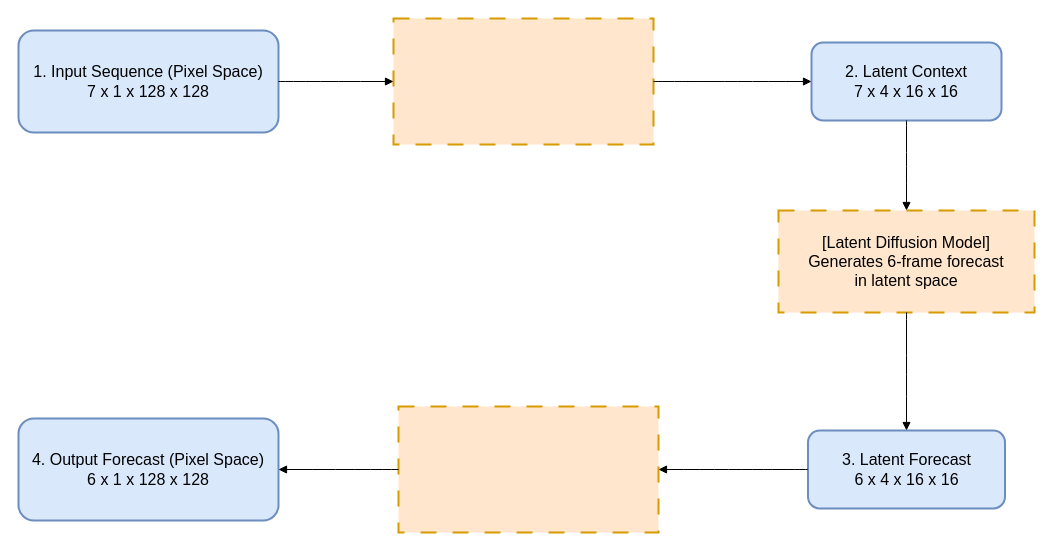
The diagram is 1052 pixels wide and 550 high, and some of its shapes have lost their labels. The shapes that lost their labels are listed below. From the top down, each one's box as (x1, y1, x2, y2) in pixels, then its label:
(392, 17, 654, 145): [VAE Encoder] Spatial compression per frame: 128x128 → 16x16
(397, 405, 659, 533): [VAE Decoder] Spatial reconstruction per frame: 16x16 → 128x128
